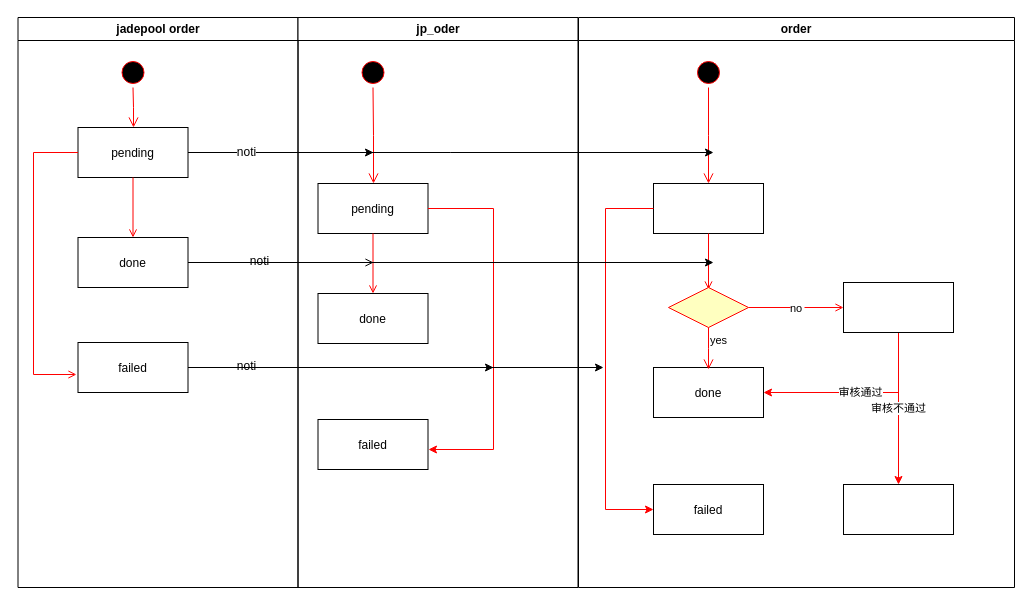
Image size: 1032x605. Some labels were removed from this diagram. Here are the shapes that lost their labels. From the top down, the centre of each, then its label:
At (x=708, y=208): "preinit".
At (x=708, y=307): "deposit == true && address not in blacklist && value less than value limit".
At (x=898, y=307): "waiting".
At (x=898, y=509): "terminated".
